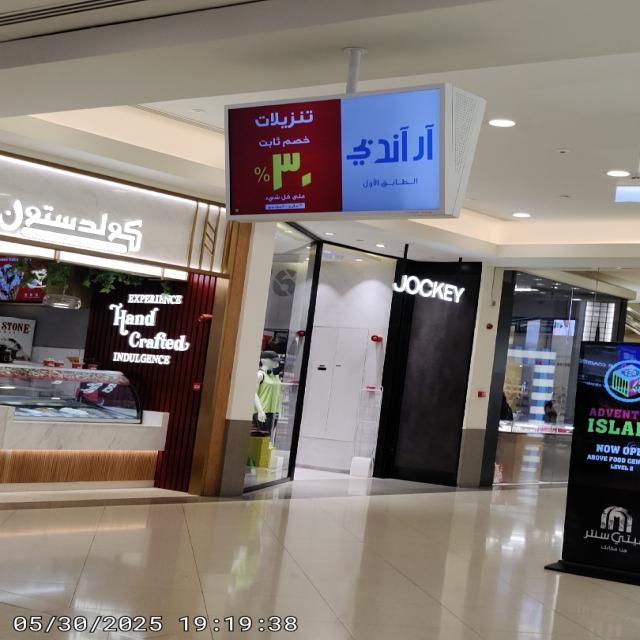digital-board: (223, 87, 447, 214)
